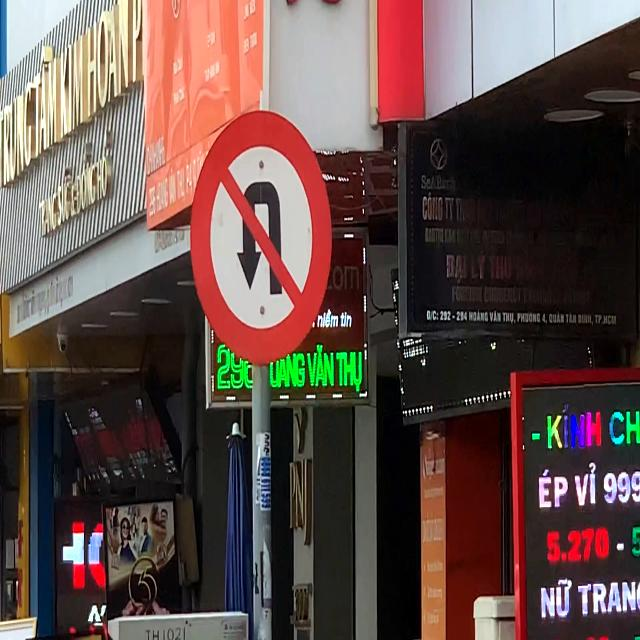P.124a: (190, 110, 330, 366)
